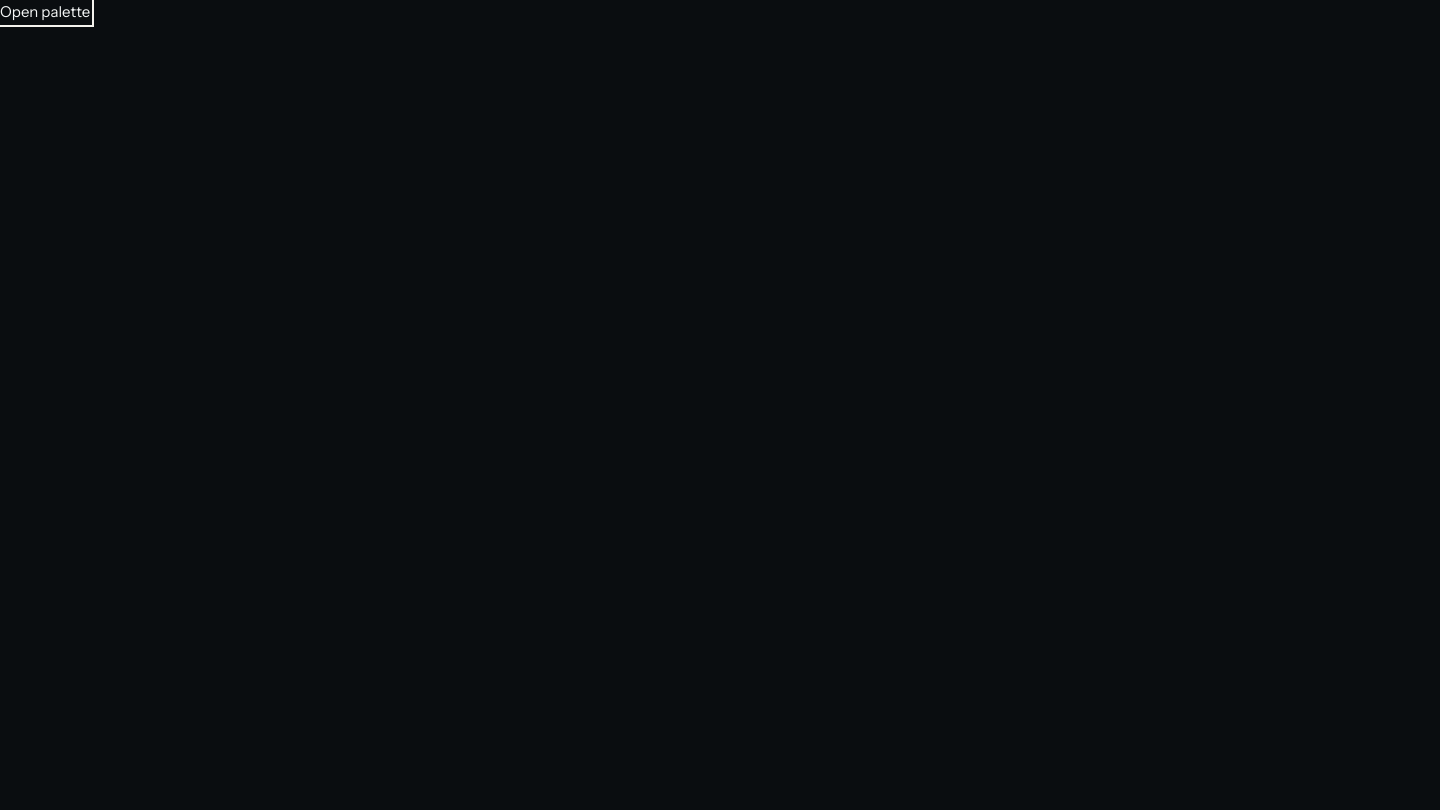
Test: the quick switcher: commands › offers the social commands when typed
Type keys "{Control>}k{/Control}"
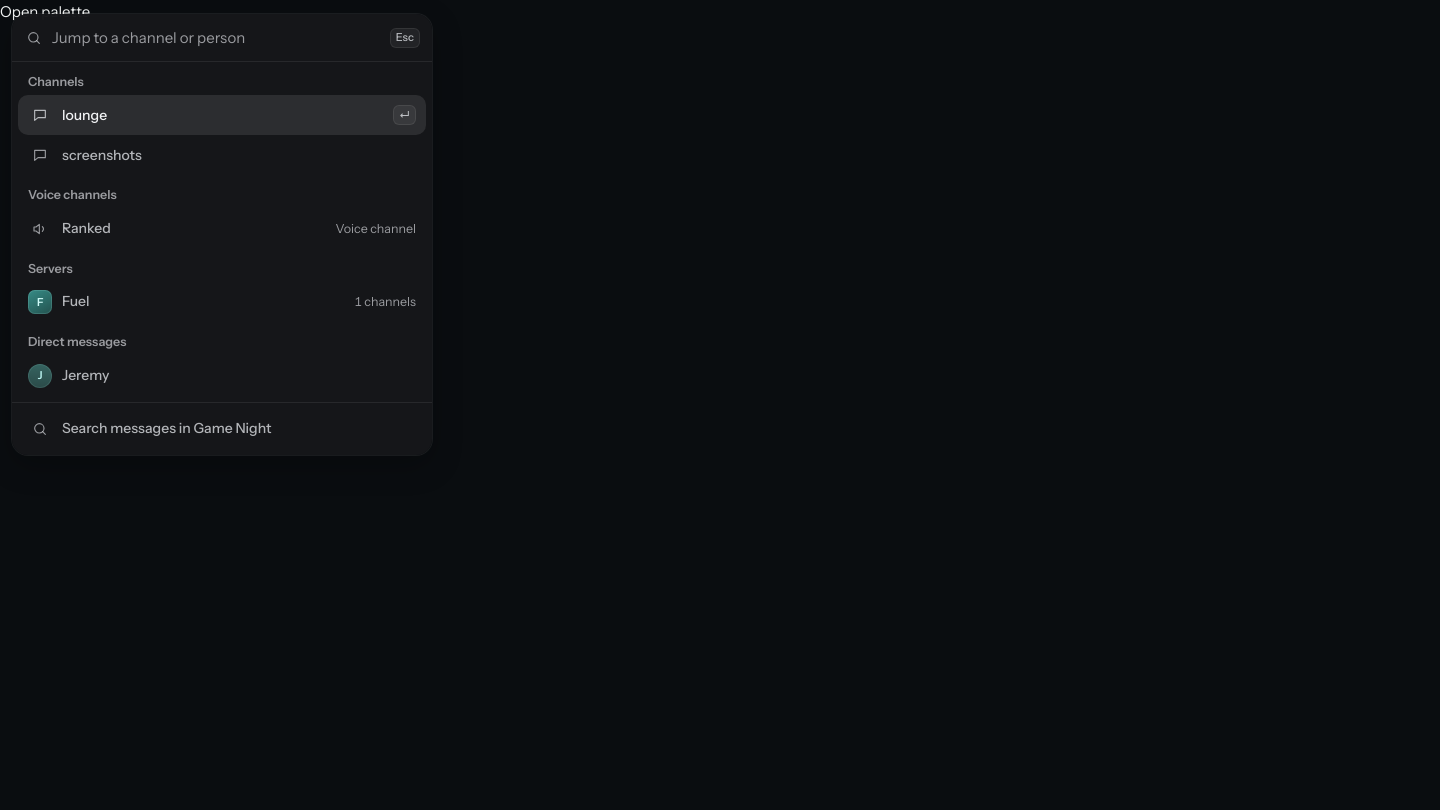
Result: the dialog named "Quick switcher" is shown at [12, 14, 432, 454]
Type "friend" into the dropdown named "Search the quick switcher". click: (216, 38)
box: [52, 14, 380, 61]
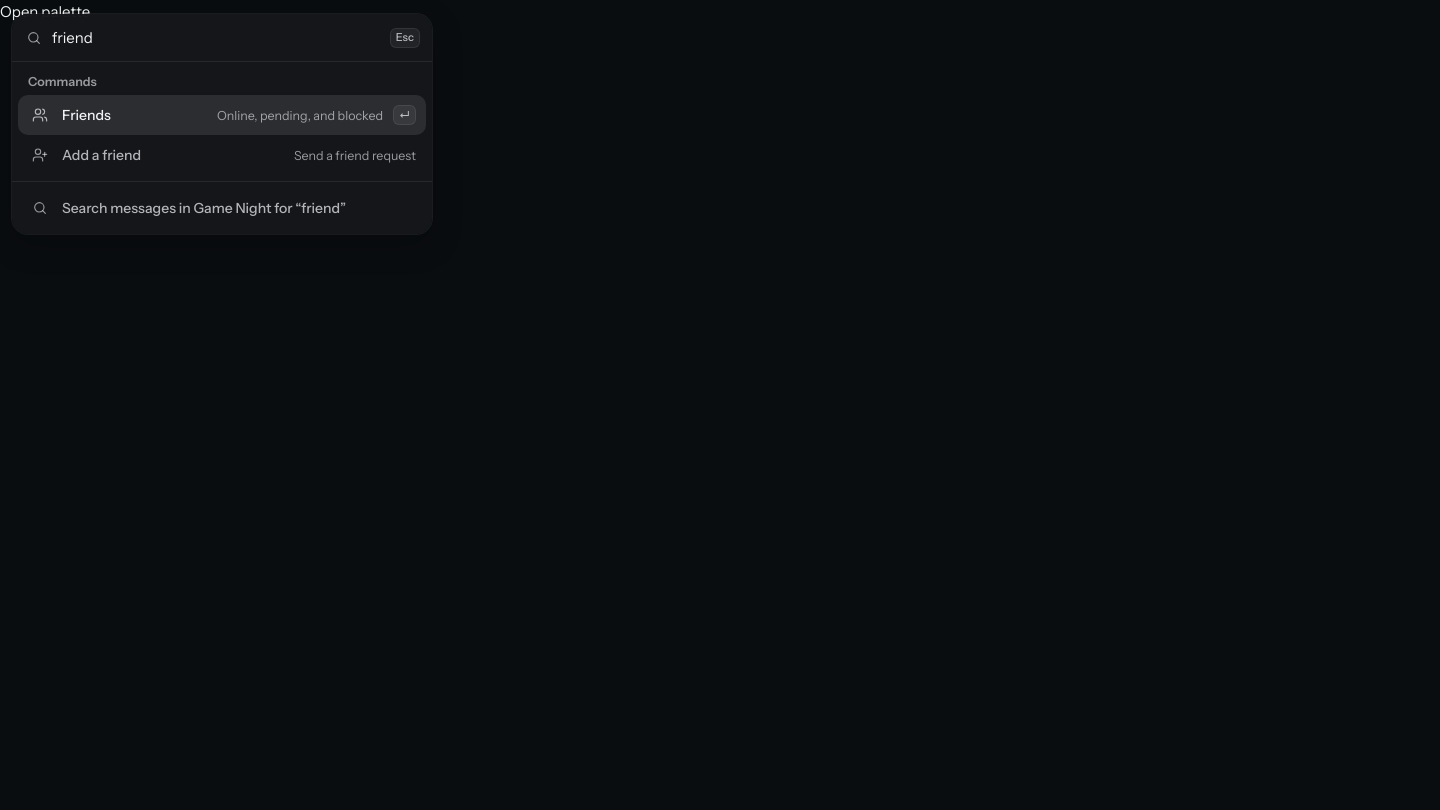
Result: the option "Add a friend Send a friend request" is shown at [18, 135, 426, 175]
Result: the number of options "Friends Online, pending, and blocked ↵" is 1 at [18, 95, 426, 135]
